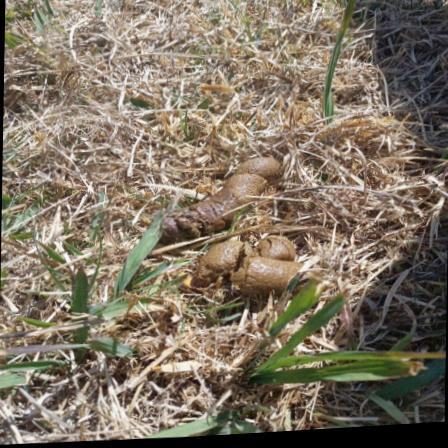dog-poop: (157, 145, 284, 243), (195, 228, 304, 307)
